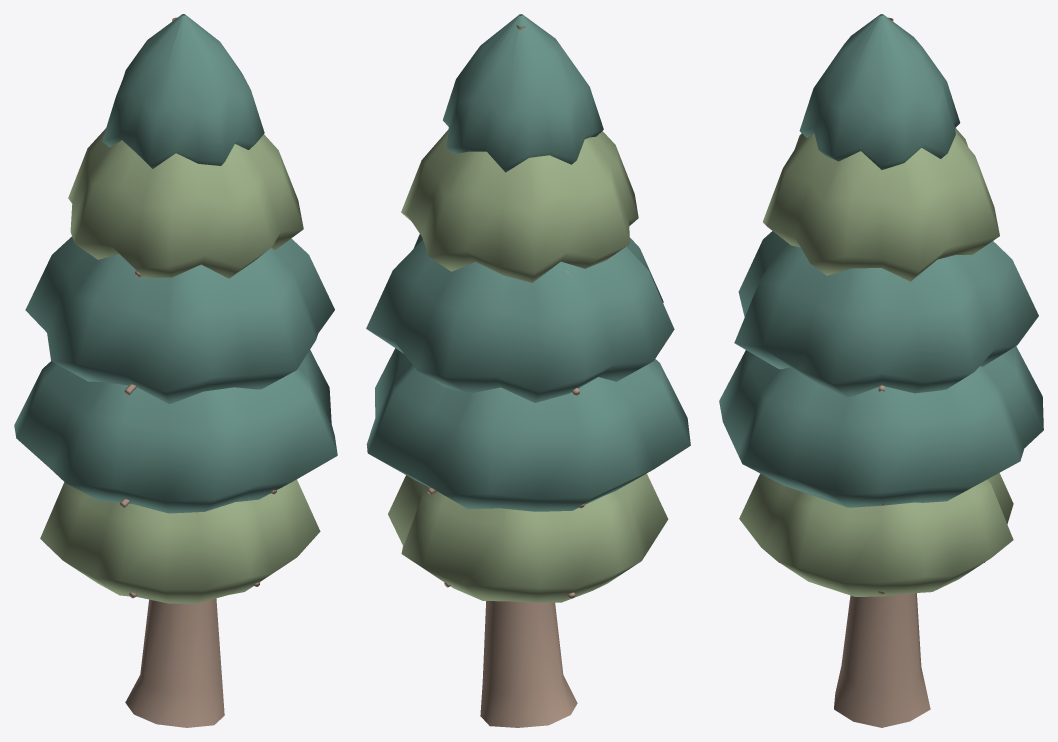
File: FestivalTreeFir.fbx
3 renders of one model, left to right at view 1: azimuth 30°, elevation 25°; view 2: azimuth 150°, elevation 25°; view 3: azimuth 270°, elevation 25°, orthographic.
Parts seen in each view (by area): view 1: FestivalTreeFir Needle__Needle, FestivalTreeFir LeafWarm__LeafWarm, FestivalTreeFir Bark__Bark; view 2: FestivalTreeFir Needle__Needle, FestivalTreeFir LeafWarm__LeafWarm, FestivalTreeFir Bark__Bark; view 3: FestivalTreeFir Needle__Needle, FestivalTreeFir LeafWarm__LeafWarm, FestivalTreeFir Bark__Bark.
Boxes of the visible parts, x1=… form: FestivalTreeFir Needle__Needle: x1=14, y1=14, x2=337, y2=513; FestivalTreeFir LeafWarm__LeafWarm: x1=40, y1=128, x2=320, y2=603; FestivalTreeFir Bark__Bark: x1=120, y1=17, x2=276, y2=727; FestivalTreeFir Needle__Needle: x1=366, y1=14, x2=690, y2=511; FestivalTreeFir LeafWarm__LeafWarm: x1=388, y1=129, x2=668, y2=602; FestivalTreeFir Bark__Bark: x1=427, y1=25, x2=584, y2=727; FestivalTreeFir Needle__Needle: x1=719, y1=14, x2=1043, y2=507; FestivalTreeFir LeafWarm__LeafWarm: x1=739, y1=128, x2=1013, y2=596; FestivalTreeFir Bark__Bark: x1=778, y1=17, x2=984, y2=727.
Size of the model in its own units: 336 by 774 by 328.
